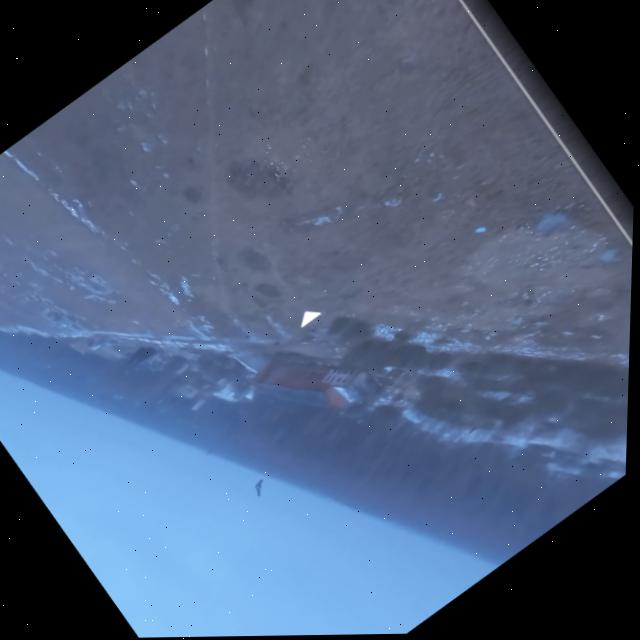planedrone: (245, 475, 272, 499)
